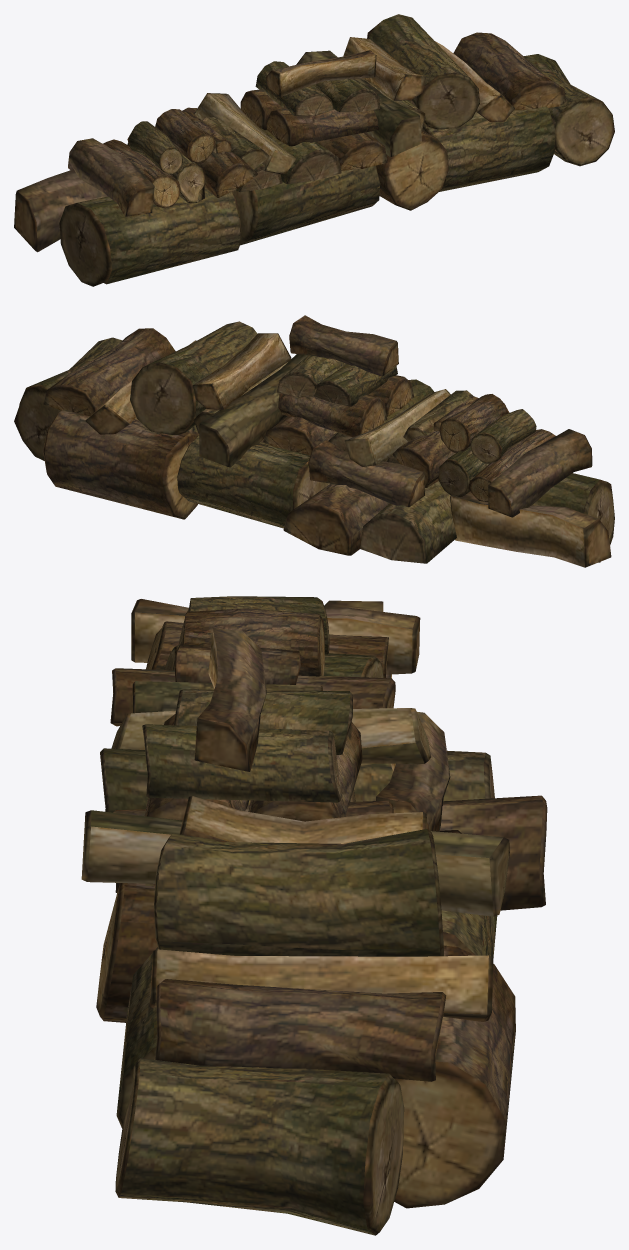
The picture shows the model from 3 angles, top to bottom: view 1: azimuth 30°, elevation 25°; view 2: azimuth 150°, elevation 25°; view 3: azimuth 270°, elevation 25°; orthographic projection. The views are drawn at different scales.
Visible parts, largest first — view 1: LV_Common_Object_A_Woodpile02_SM_CNH; view 2: LV_Common_Object_A_Woodpile02_SM_CNH; view 3: LV_Common_Object_A_Woodpile02_SM_CNH.
Boxes of the visible parts, x1,y1,x2,y2 form: LV_Common_Object_A_Woodpile02_SM_CNH: [14, 14, 614, 286]; LV_Common_Object_A_Woodpile02_SM_CNH: [14, 315, 614, 567]; LV_Common_Object_A_Woodpile02_SM_CNH: [81, 596, 547, 1235].
Size of the model in its own units: 0.6584 by 0.1875 by 0.2407.
Materials: 1 (1 with a texture image).
